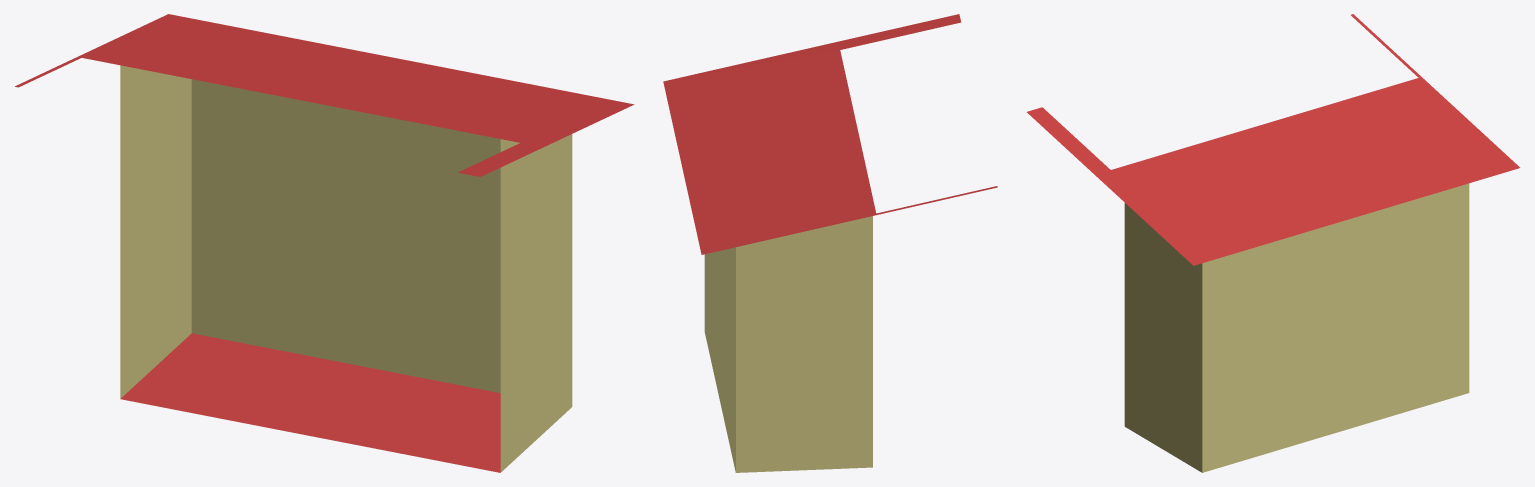
The picture shows the model from 3 angles, left to right: view 1: azimuth 30°, elevation 25°; view 2: azimuth 150°, elevation 25°; view 3: azimuth 270°, elevation 25°; orthographic projection. The views are drawn at different scales.
Size of the model in its own units: 9.51 by 10.05 by 6.35.
